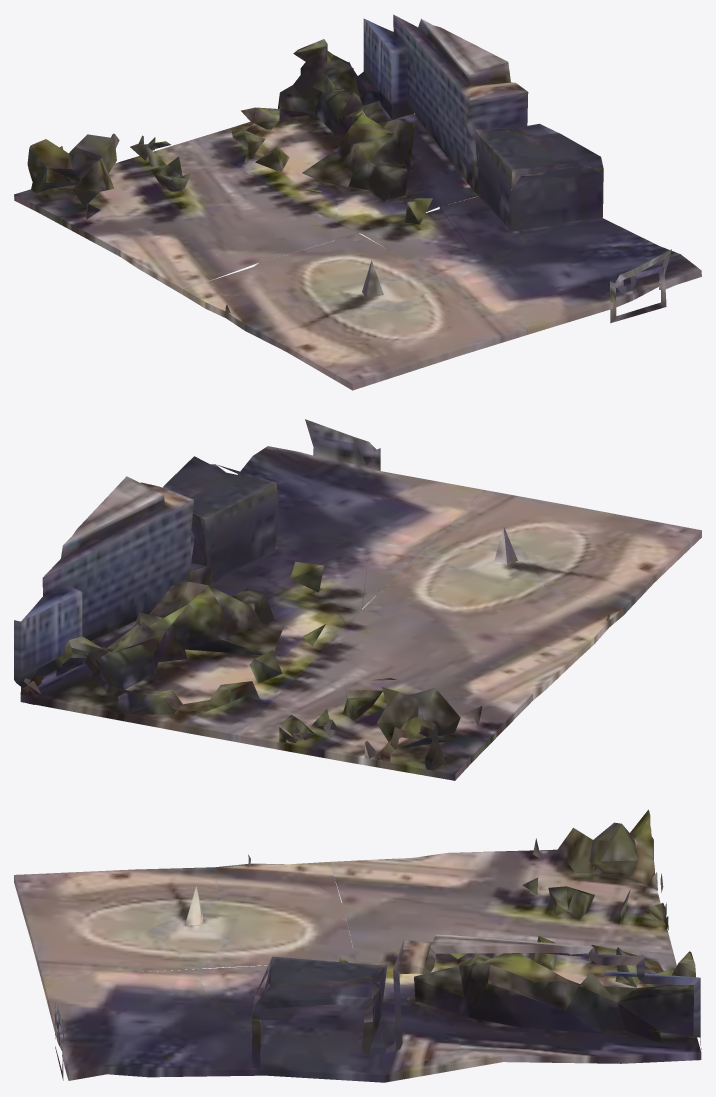
3 views of the same model, one above another, from view 1: azimuth 30°, elevation 25°; view 2: azimuth 150°, elevation 25°; view 3: azimuth 270°, elevation 25° (orthographic). The views are drawn at different scales.
Parts seen in each view (by area): view 1: Mesh_0; view 2: Mesh_0; view 3: Mesh_0.
Part boxes in pixels (x1,y1,x2,y2): Mesh_0: (14,14,701,390); Mesh_0: (14,419,701,780); Mesh_0: (14,809,701,1082).
Bounding box in the file's own units: 133 × 36.55 × 165.
1 material, 1 textured.
